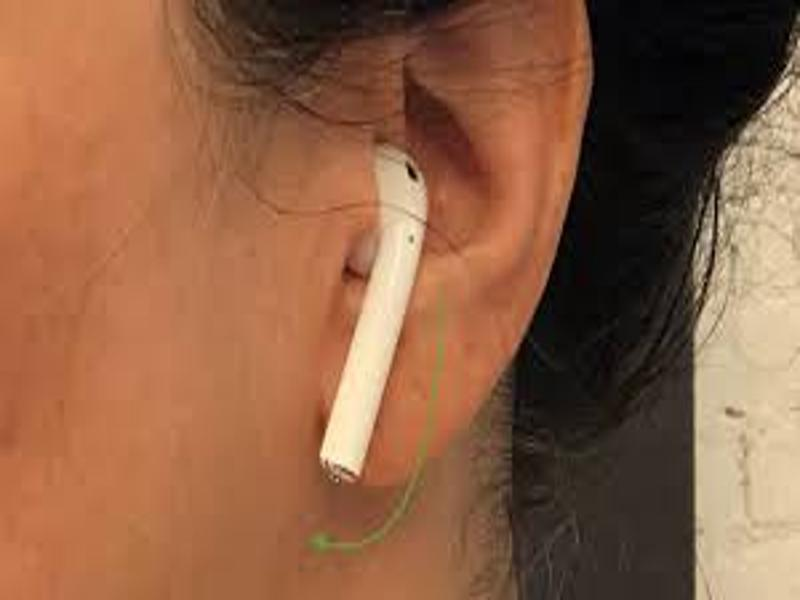headphone: (314, 145, 429, 489)
